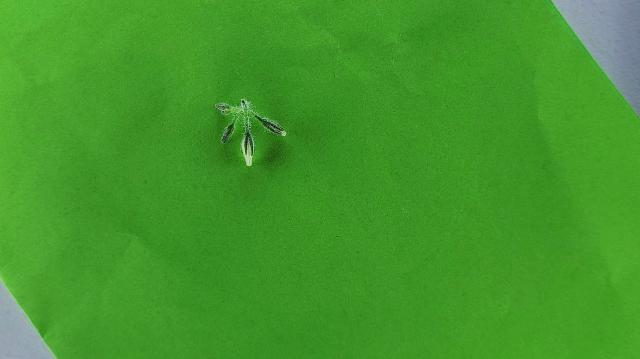Flower Bud: (255, 115, 286, 136), (241, 131, 254, 166), (215, 101, 238, 114), (220, 122, 234, 143)
